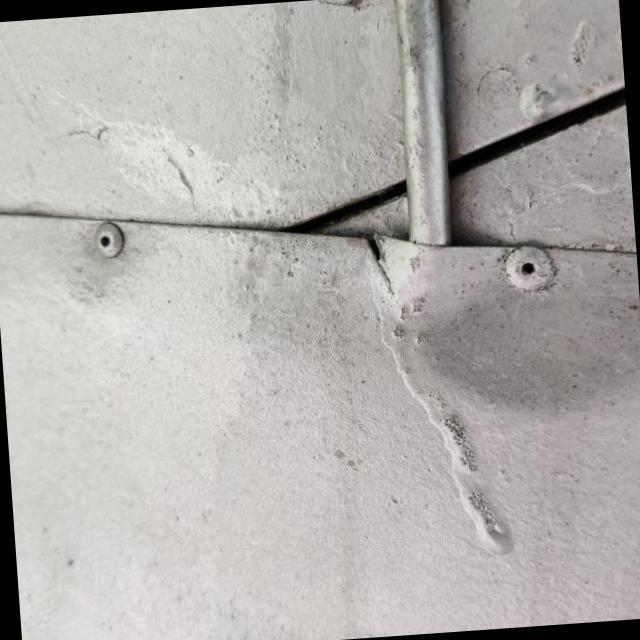Rupture: (341, 215, 404, 292)
